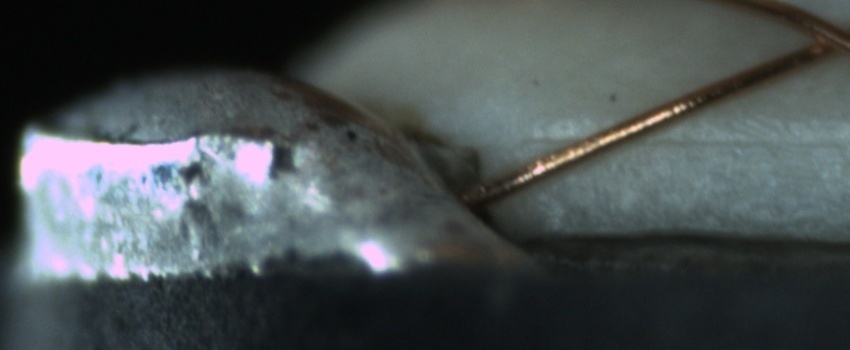CL: (789, 9, 849, 64)
DL: (539, 110, 850, 172)
